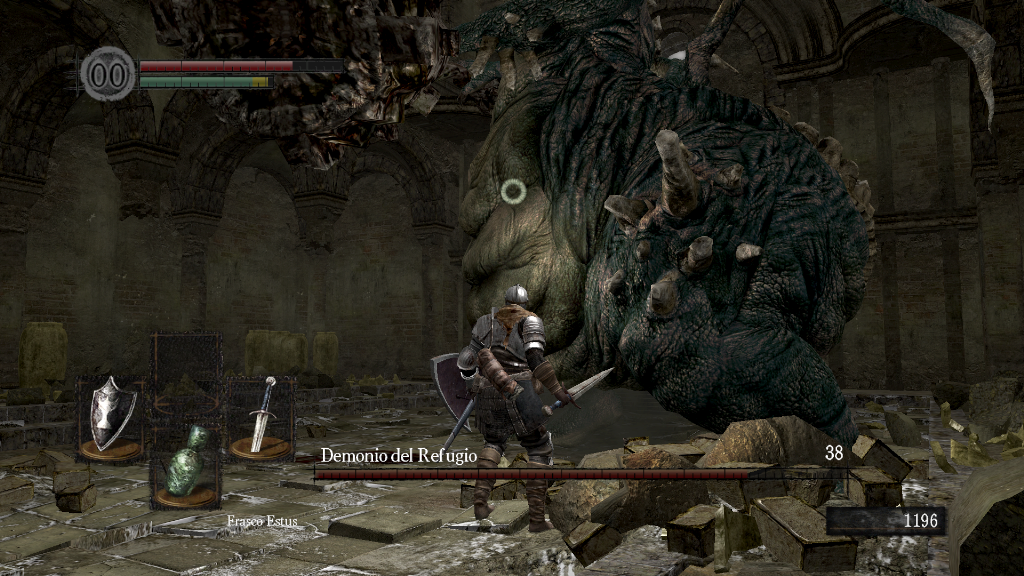asylumDemon: (153, 4, 886, 468)
bossHP: (314, 469, 847, 479)
health: (138, 58, 343, 71)
humanity: (80, 45, 136, 102)
player: (427, 282, 618, 532)
souls: (825, 506, 945, 536)
stamina: (138, 74, 274, 88)
